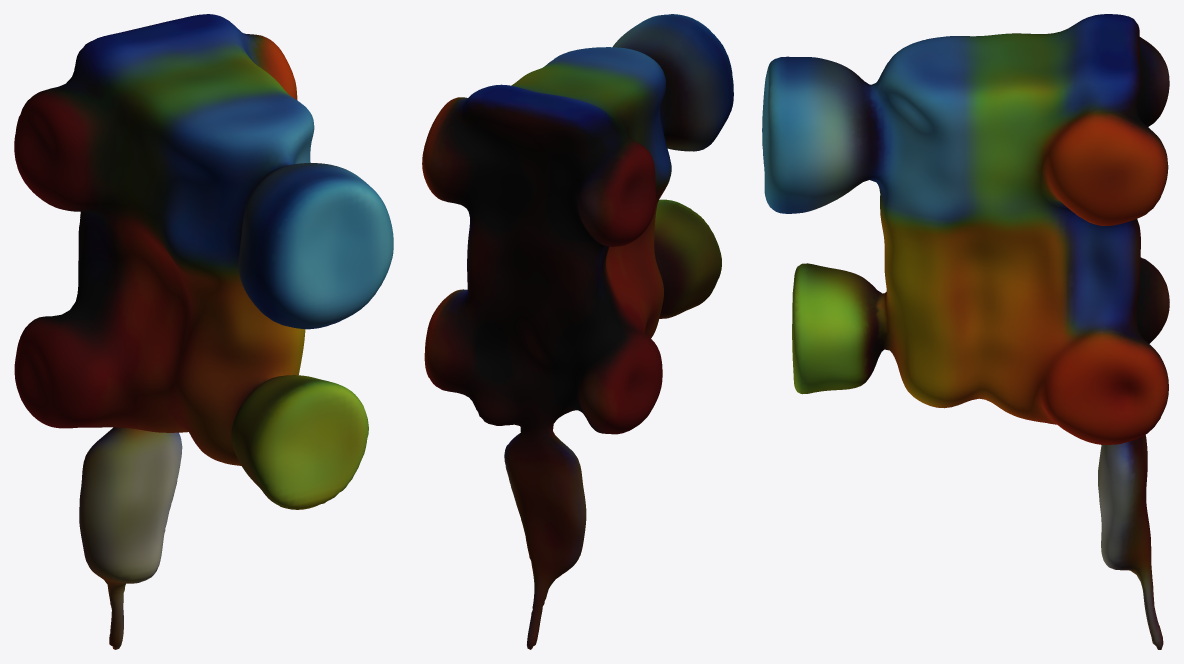
The model's file is train.glb.
The picture shows the model from 3 angles, left to right: view 1: azimuth 30°, elevation 25°; view 2: azimuth 150°, elevation 25°; view 3: azimuth 270°, elevation 25°; orthographic projection. The views are drawn at different scales.
Size of the model in its own units: 0.4096 by 0.9975 by 0.5969.
